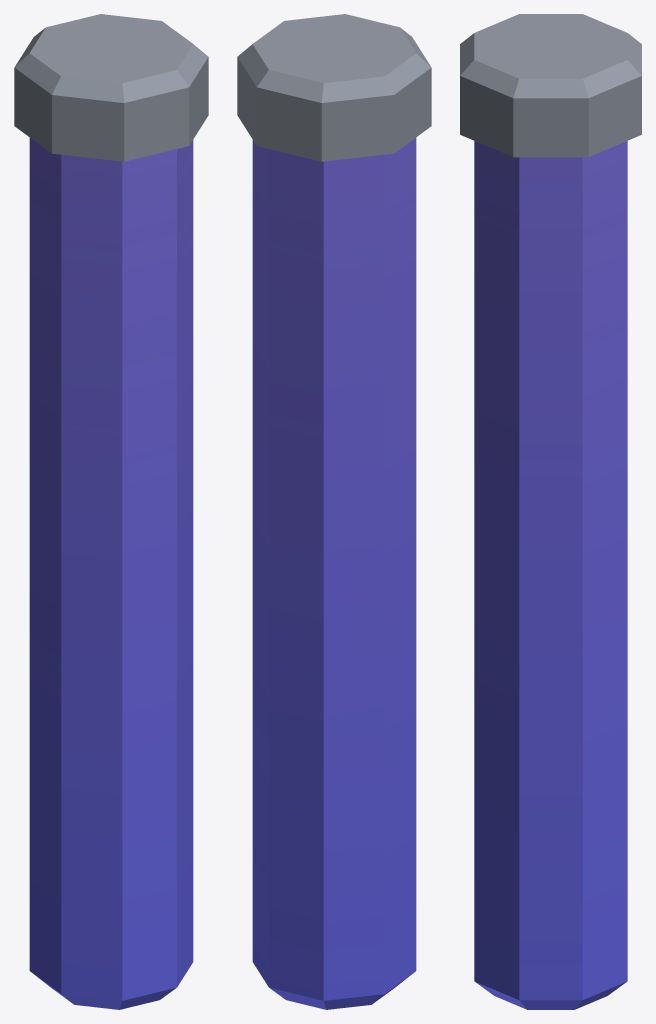
The model's file is SM_Props_Laboratory_16.fbx.
The picture shows the model from 3 angles, left to right: view 1: azimuth 30°, elevation 25°; view 2: azimuth 150°, elevation 25°; view 3: azimuth 270°, elevation 25°; orthographic projection.
Visible parts, largest first — view 1: SM_Props_Laboratory_16; view 2: SM_Props_Laboratory_16; view 3: SM_Props_Laboratory_16.
Part boxes in pixels (left/top/right/bottom): SM_Props_Laboratory_16: left=14, top=14, right=208, bottom=1009; SM_Props_Laboratory_16: left=237, top=14, right=431, bottom=1009; SM_Props_Laboratory_16: left=460, top=14, right=641, bottom=1009.
Bounding box in the file's own units: 0.0329 × 0.1878 × 0.0329.
